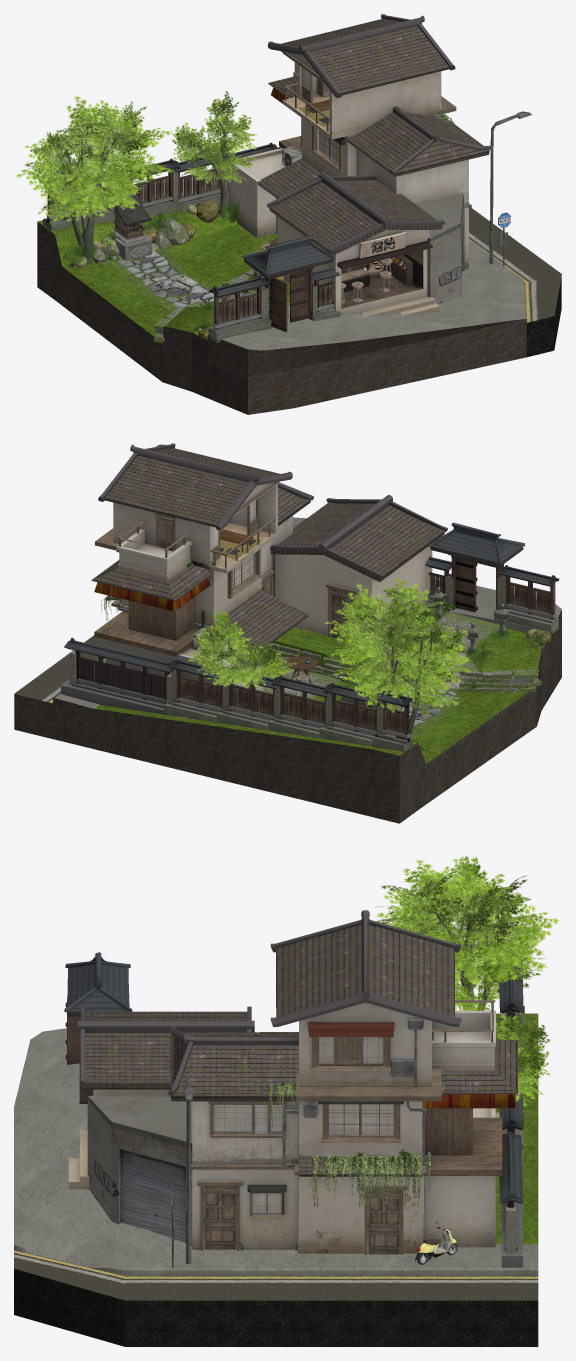
Rendered from anime-grandma-house-light.glb.
3 renders of one model, top to bottom at view 1: azimuth 30°, elevation 25°; view 2: azimuth 150°, elevation 25°; view 3: azimuth 270°, elevation 25°, orthographic. The views are drawn at different scales.
Parts seen in each view (by area): view 1: polySurface2376_M_side_0, roofs_M_roofs_0, polySurface2580_M_leaves_0, polySurface2441_moss_0, polySurface2440_M_concrete_0, polySurface2574_M_house_1_0, restaurant_M_restaurant_0, fence_repeat_M_fence_repeat_0, polySurface2368_M_house_3_0, gate_M_gate_0, garage_M_garage_0, polySurface2377_M_road_0 (+13 smaller); view 2: polySurface2376_M_side_0, roofs_M_roofs_0, polySurface2580_M_leaves_0, fence_repeat_M_fence_repeat_0, polySurface2574_M_house_1_0, polySurface2441_moss_0, restaurant_M_restaurant_0, polySurface2350_M_house_2_0, fence_1_lambert7_0, M_flat_stone_M_rock_patch_0, gate_M_gate_0, polySurface2389_M_wood_0 (+11 smaller); view 3: roofs_M_roofs_0, polySurface2440_M_concrete_0, polySurface2376_M_side_0, polySurface2574_M_house_1_0, polySurface2580_M_leaves_0, polySurface2368_M_house_3_0, polySurface2350_M_house_2_0, garage_M_garage_0, polySurface2377_M_road_0, polySurface2389_M_wood_0, window_M_window_0, restaurant_M_restaurant_0 (+9 smaller).
Boxes of the visible parts, x1,y1,x2,y2 form: polySurface2376_M_side_0: (37, 220, 561, 414); roofs_M_roofs_0: (258, 18, 489, 255); polySurface2580_M_leaves_0: (16, 91, 257, 248); polySurface2441_moss_0: (37, 204, 289, 343); polySurface2440_M_concrete_0: (208, 240, 526, 350); polySurface2574_M_house_1_0: (267, 14, 455, 176); restaurant_M_restaurant_0: (266, 172, 444, 316); fence_repeat_M_fence_repeat_0: (43, 142, 278, 342); polySurface2368_M_house_3_0: (271, 88, 491, 268); gate_M_gate_0: (242, 235, 335, 332); garage_M_garage_0: (210, 146, 464, 307); polySurface2377_M_road_0: (469, 208, 561, 322); polySurface2376_M_side_0: (14, 606, 561, 823); roofs_M_roofs_0: (91, 448, 444, 648); polySurface2580_M_leaves_0: (187, 578, 472, 717); fence_repeat_M_fence_repeat_0: (164, 565, 559, 751); polySurface2574_M_house_1_0: (98, 443, 292, 653); polySurface2441_moss_0: (94, 609, 544, 763); restaurant_M_restaurant_0: (270, 495, 447, 642); polySurface2350_M_house_2_0: (94, 529, 263, 705); fence_1_lambert7_0: (61, 637, 172, 714); M_flat_stone_M_rock_patch_0: (263, 610, 541, 719); gate_M_gate_0: (428, 522, 525, 612); polySurface2389_M_wood_0: (95, 481, 357, 650); roofs_M_roofs_0: (82, 925, 517, 1176); polySurface2440_M_concrete_0: (14, 1028, 538, 1275); polySurface2376_M_side_0: (14, 1013, 538, 1346); polySurface2574_M_house_1_0: (270, 910, 461, 1253); polySurface2580_M_leaves_0: (375, 855, 559, 1106); polySurface2368_M_house_3_0: (168, 1022, 515, 1249); polySurface2350_M_house_2_0: (422, 1010, 502, 1247); garage_M_garage_0: (87, 1095, 192, 1245); polySurface2377_M_road_0: (14, 1250, 538, 1300); polySurface2389_M_wood_0: (190, 1000, 494, 1254); window_M_window_0: (213, 1037, 393, 1215); restaurant_M_restaurant_0: (68, 1006, 254, 1189).
Size of the model in its own units: 21.75 by 11.86 by 18.21.
Materials: 36 (34 with a texture image).
